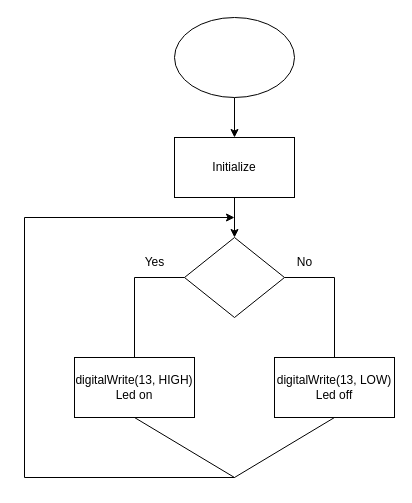
Image size: 412x503. Some labels were removed from this diagram. Each missing label, with the centre of its shape:
ButtonPressed: (x=234, y=277)
Start: (x=234, y=57)
